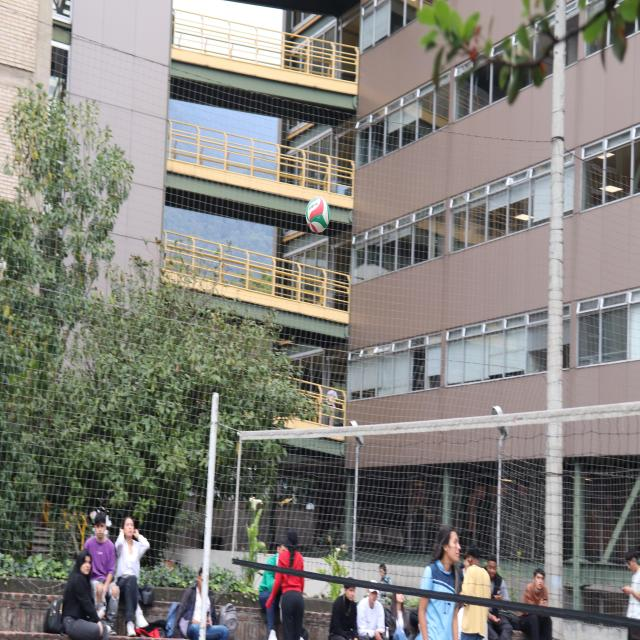volleyball: (305, 195, 331, 232)
